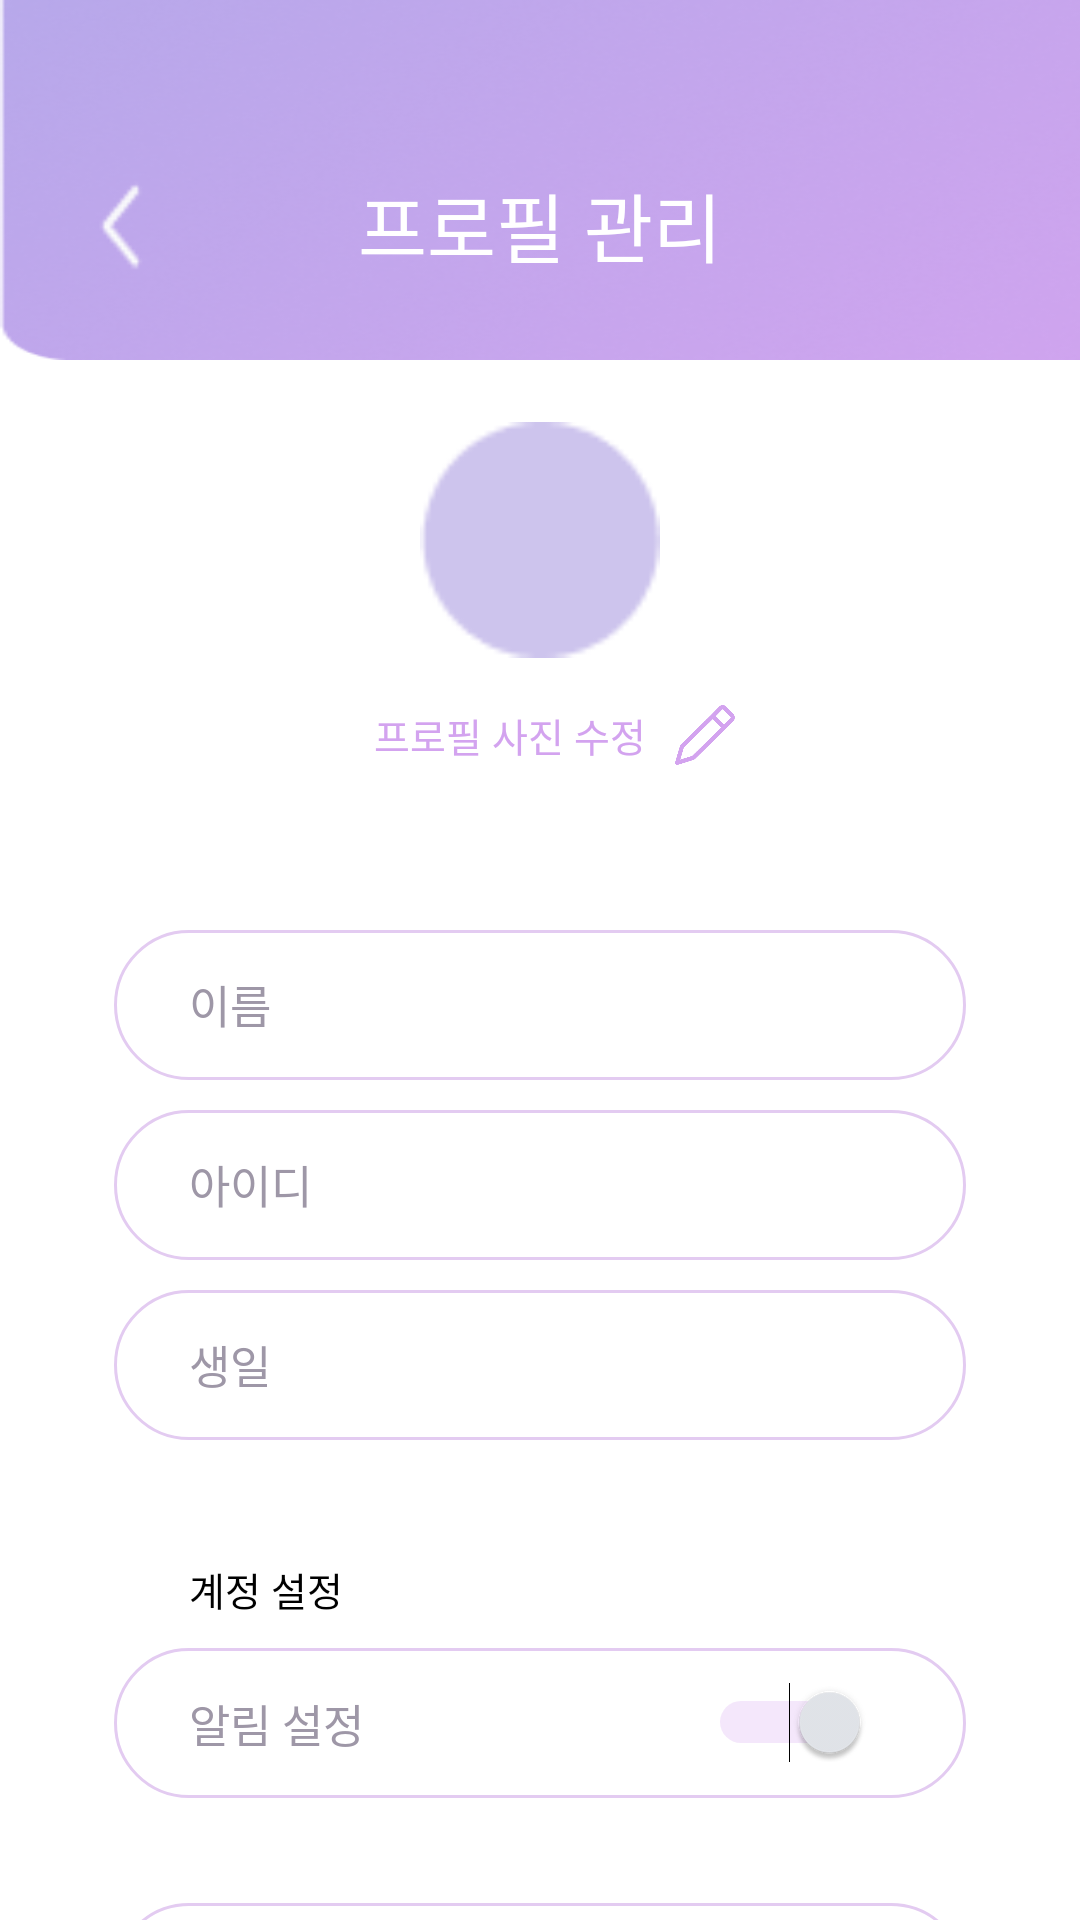

Where to tap for icons on this 1080 × 1920 app screen, as (x=x, y=y):
setting pencil: (x=705, y=735)
